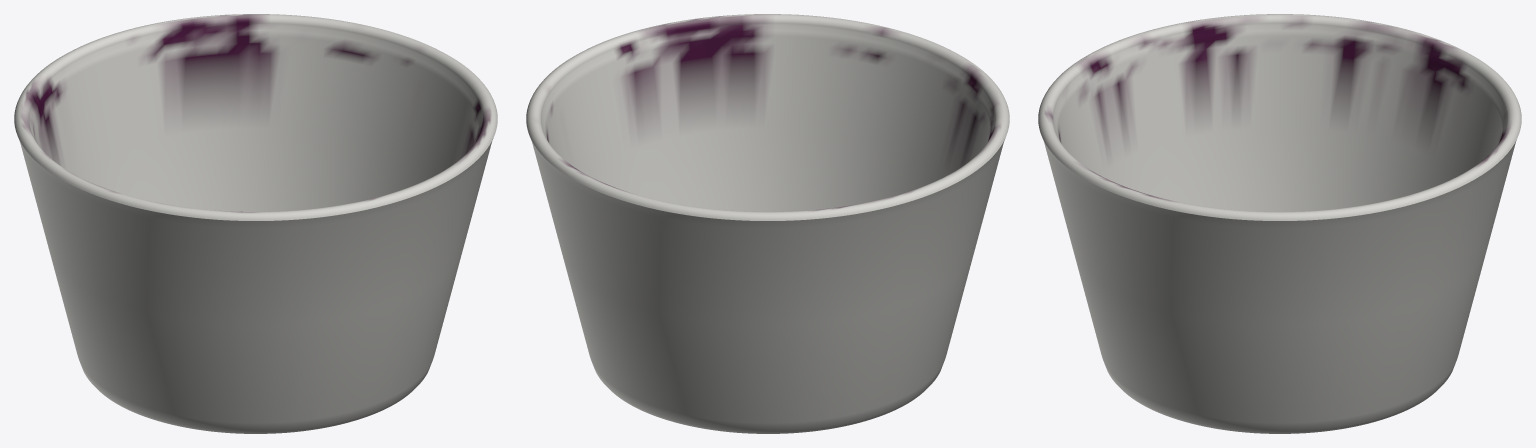
File: container-isopor-m.glb
3 views of the same model, side by side, from view 1: azimuth 30°, elevation 25°; view 2: azimuth 150°, elevation 25°; view 3: azimuth 270°, elevation 25° (orthographic).
Visible parts, largest first — view 1: container-isopor-m; view 2: container-isopor-m; view 3: container-isopor-m.
Part boxes in pixels (<box>): container-isopor-m: <box>14,14,497,433</box>; container-isopor-m: <box>526,14,1009,433</box>; container-isopor-m: <box>1038,14,1521,433</box>.
Bounding box in the file's own units: 0.1239 × 0.07 × 0.1239.
